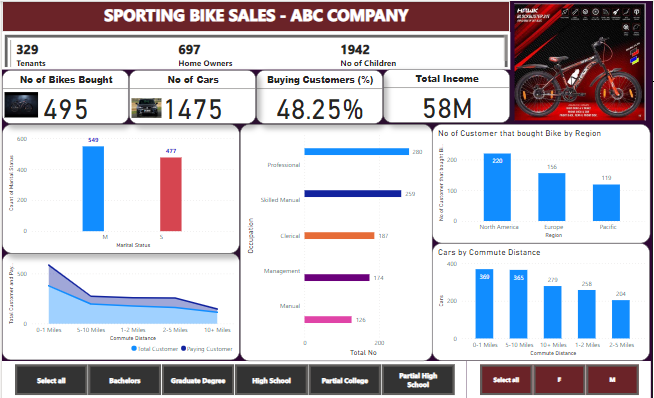

This screenshot's page, from the dashboard's own definition file:
{"tool":"powerbi","page":{"name":"Page 1","canvas":[1280,783],"ordinal":0},"visuals":[{"type":"slicer","fields":{"Values":["bike_buyers.Gender"]},"box":[914.8,708.5,361.8,74.4],"z":0},{"type":"slicer","fields":{"Values":["bike_buyers.Education"]},"box":[0,708.5,914.8,74.4],"z":1000},{"type":"stackedAreaChart","fields":{"Category":["bike_buyers.Commute Distance"],"Y":["bike_buyers.Total Customer","bike_buyers.No of Customer that bought Bike"]},"box":[0,497.1,468.4,211.4],"z":2000},{"type":"clusteredColumnChart","fields":{"Category":["bike_buyers.Marital Status"],"Y":["CountNonNull(bike_buyers.Marital Status)"],"Series":["bike_buyers.Marital Status"]},"box":[0,241.8,468.4,255.3],"z":3000},{"type":"clusteredBarChart","fields":{"Category":["bike_buyers.Occupation"],"Y":["CountNonNull(bike_buyers.Occupation)"],"Series":["bike_buyers.Occupation"]},"box":[468.4,241.8,378.8,466.7],"z":4000},{"type":"multiRowCard","fields":{"Values":["bike_buyers.Tenants","bike_buyers.Home Owners","Sum(bike_buyers.Children)"]},"box":[0,60.5,1001.2,73.9],"z":5000},{"type":"card","title":"No of Bikes Bought","fields":{"Values":["bike_buyers.No of Customer that bought Bike"]},"box":[0,136.1,250.3,105.8],"z":6000},{"type":"card","title":"Total Income","fields":{"Values":["Sum(bike_buyers.Income)"]},"box":[750.9,134.4,250.3,105.8],"z":7000},{"type":"card","title":"Buying Customers (%)","fields":{"Values":["bike_buyers.Conversion Rate"]},"box":[500.6,136.1,250.3,105.8],"z":8000},{"type":"columnChart","fields":{"Category":["bike_buyers.Commute Distance"],"Y":["Sum(bike_buyers.Cars)"]},"box":[847.1,476.8,429.5,231.7],"z":9000},{"type":"card","title":"No of Cars","fields":{"Values":["Sum(bike_buyers.Cars)"]},"box":[250.3,136.1,250.3,105.8],"z":10000},{"type":"columnChart","fields":{"Category":["bike_buyers.Region"],"Y":["bike_buyers.No of Customer that bought Bike"]},"box":[846.6,241.9,430,235.2],"z":11000},{"type":"textbox","box":[0,0,1001.2,60.5],"z":12000},{"type":"image","box":[250.3,168,68.9,87.3],"z":12002},{"type":"image","box":[0,168,75.6,73.9],"z":12003},{"type":"image","box":[1001.2,0,275.5,240.2],"z":12004}]}

Visuals, with their boxes in screenshot pixels (x1, y1, x2, y2), scaled from the page's 1280x783 canvas onto the 654x398 screenshot:
slicer - bike_buyers.Gender: (x1=467, y1=360, x2=652, y2=397)
slicer - bike_buyers.Education: (x1=0, y1=360, x2=467, y2=397)
stackedAreaChart - bike_buyers.Commute Distance x bike_buyers.Total Customer: (x1=0, y1=253, x2=239, y2=360)
clusteredColumnChart - bike_buyers.Marital Status x CountNonNull(bike_buyers.Marital Status): (x1=0, y1=123, x2=239, y2=253)
clusteredBarChart - bike_buyers.Occupation x CountNonNull(bike_buyers.Occupation): (x1=239, y1=123, x2=433, y2=360)
multiRowCard - bike_buyers.Tenants x bike_buyers.Home Owners: (x1=0, y1=31, x2=512, y2=68)
"No of Bikes Bought" card: (x1=0, y1=69, x2=128, y2=123)
"Total Income" card: (x1=384, y1=68, x2=512, y2=122)
"Buying Customers (%)" card: (x1=256, y1=69, x2=384, y2=123)
columnChart - bike_buyers.Commute Distance x Sum(bike_buyers.Cars): (x1=433, y1=242, x2=652, y2=360)
"No of Cars" card: (x1=128, y1=69, x2=256, y2=123)
columnChart - bike_buyers.Region x bike_buyers.No of Customer that bought Bike: (x1=433, y1=123, x2=652, y2=243)
textbox: (x1=0, y1=0, x2=512, y2=31)
image: (x1=128, y1=85, x2=163, y2=130)
image: (x1=0, y1=85, x2=39, y2=123)
image: (x1=512, y1=0, x2=652, y2=122)
